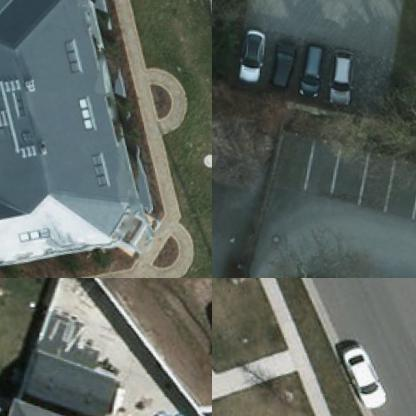car: (338, 337, 390, 411), (296, 38, 324, 94), (263, 29, 291, 85), (234, 28, 262, 84), (328, 48, 354, 102)
